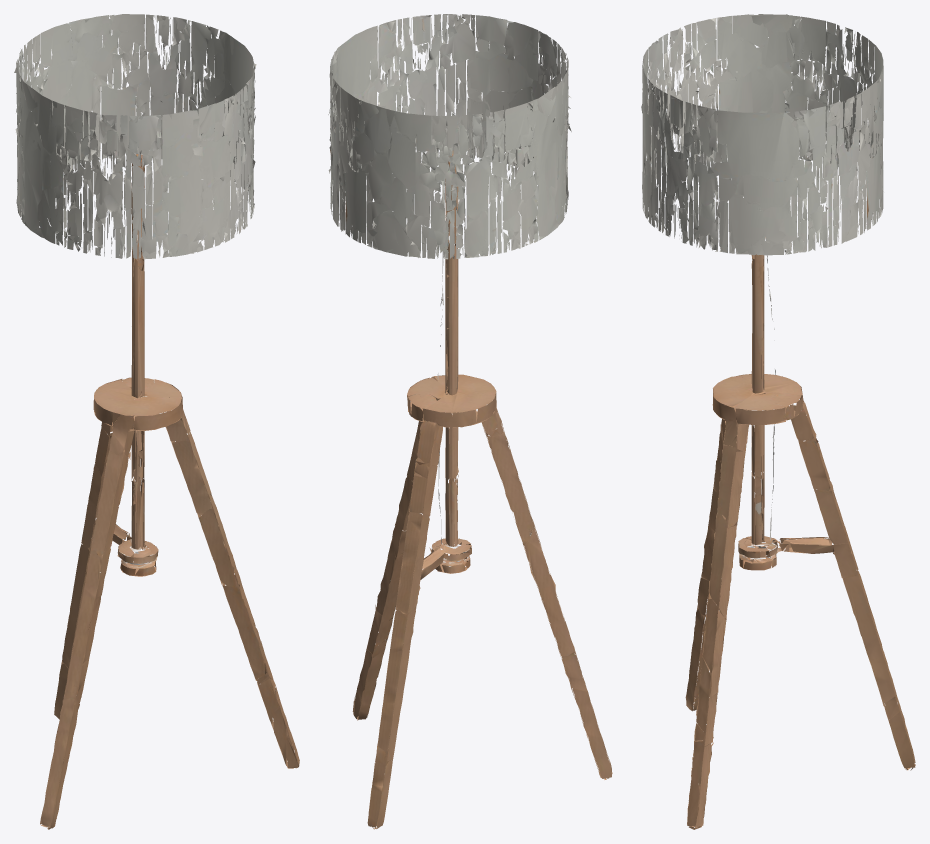
Rendered from ikea-lauters-floor-lamp-ash-white-00405048.glb.
3 renders of one model, left to right at view 1: azimuth 30°, elevation 25°; view 2: azimuth 150°, elevation 25°; view 3: azimuth 270°, elevation 25°, orthographic.
Parts seen in each view (by area): view 1: model; view 2: model; view 3: model.
Boxes of the visible parts, x1=… form: model: x1=14, y1=14, x2=299, y2=829; model: x1=328, y1=14, x2=612, y2=829; model: x1=641, y1=14, x2=915, y2=829.
Bounding box in the file's own units: 0.6942 × 1.82 × 0.6383.
1 material, 1 textured.
